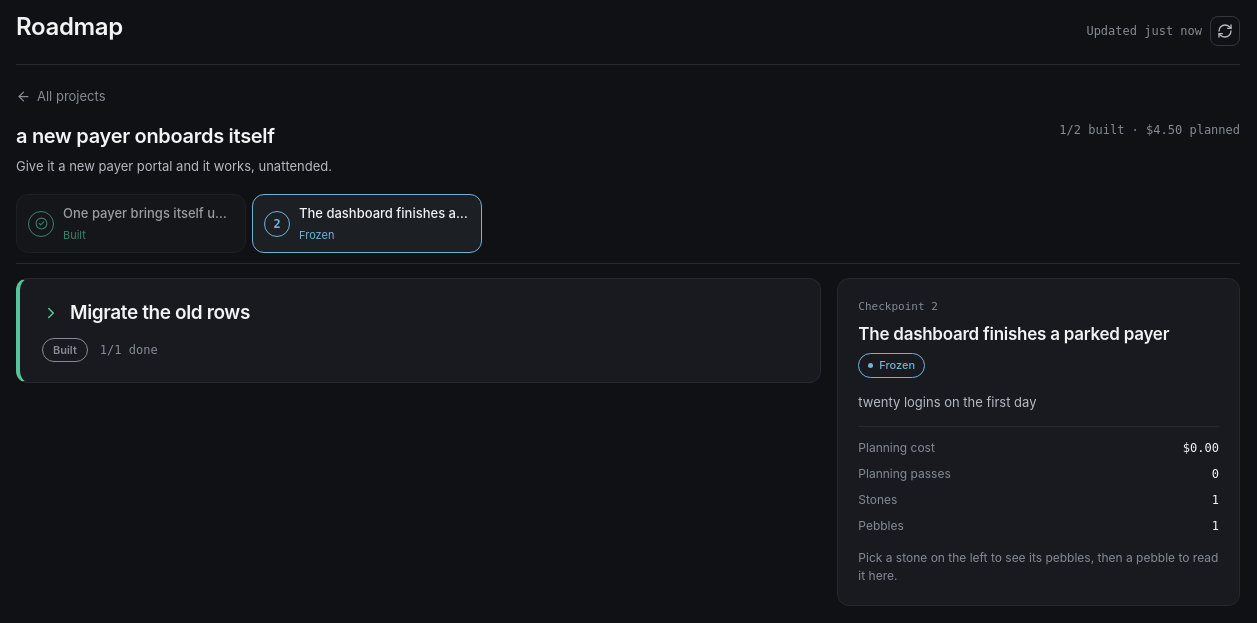
Test: shows a pebble built outside the factory as finished, with its ref linked
This screenshot has width=1257, height=623.
Expected: the text "1/1 done" is shown, [100,341,158,359]
Click the button "Migrate the old rows Built 1/1 done". click: (160, 312)
box: [20,279,820,382]
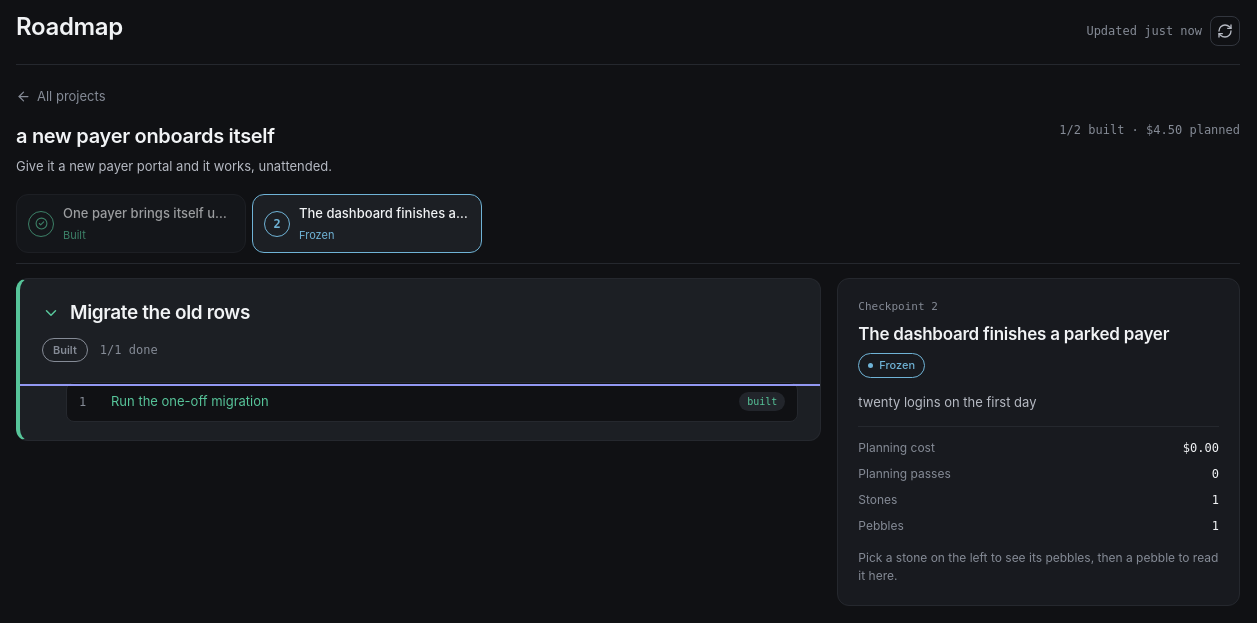
Click the button "1 Run the one-off migration built". click: (190, 401)
box: [66,382,798,422]
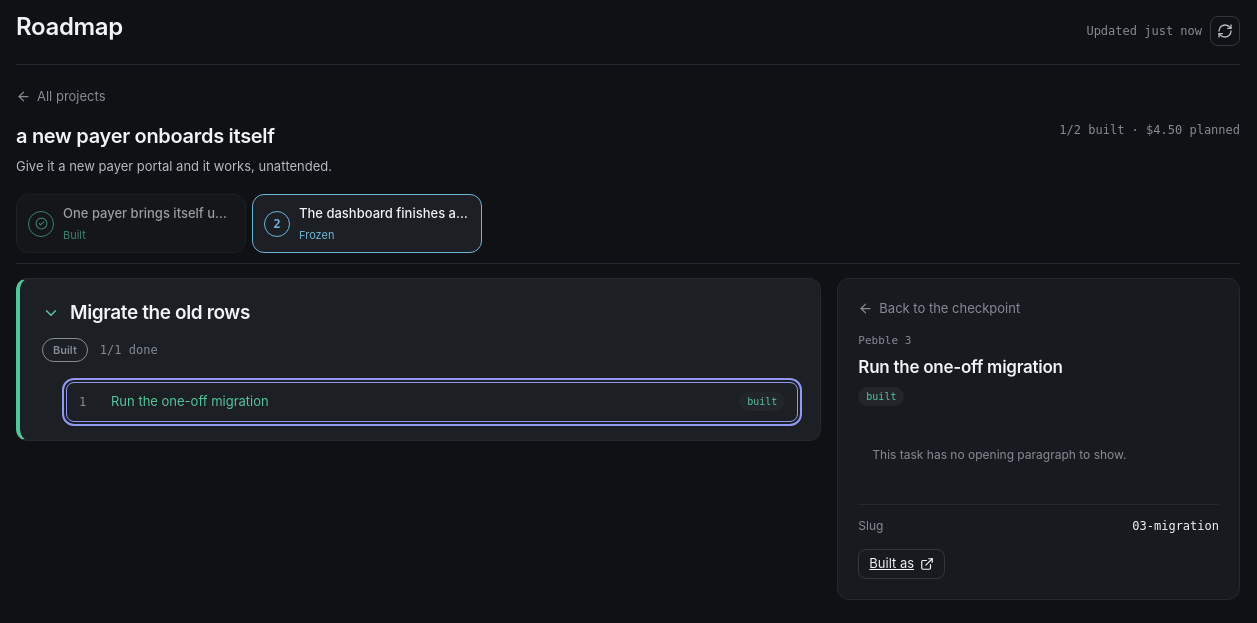
Expected: the text "built" below "Pebble" is shown, [866,390,896,402]
